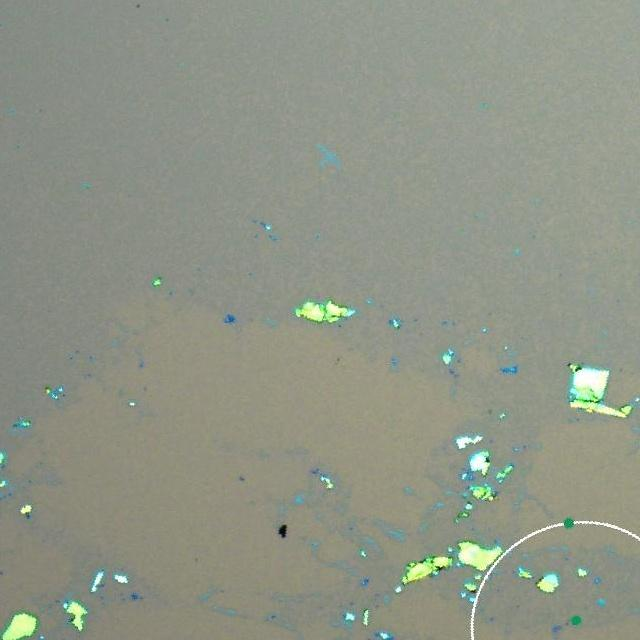monolayer-eWW4: (550, 624, 562, 633)
